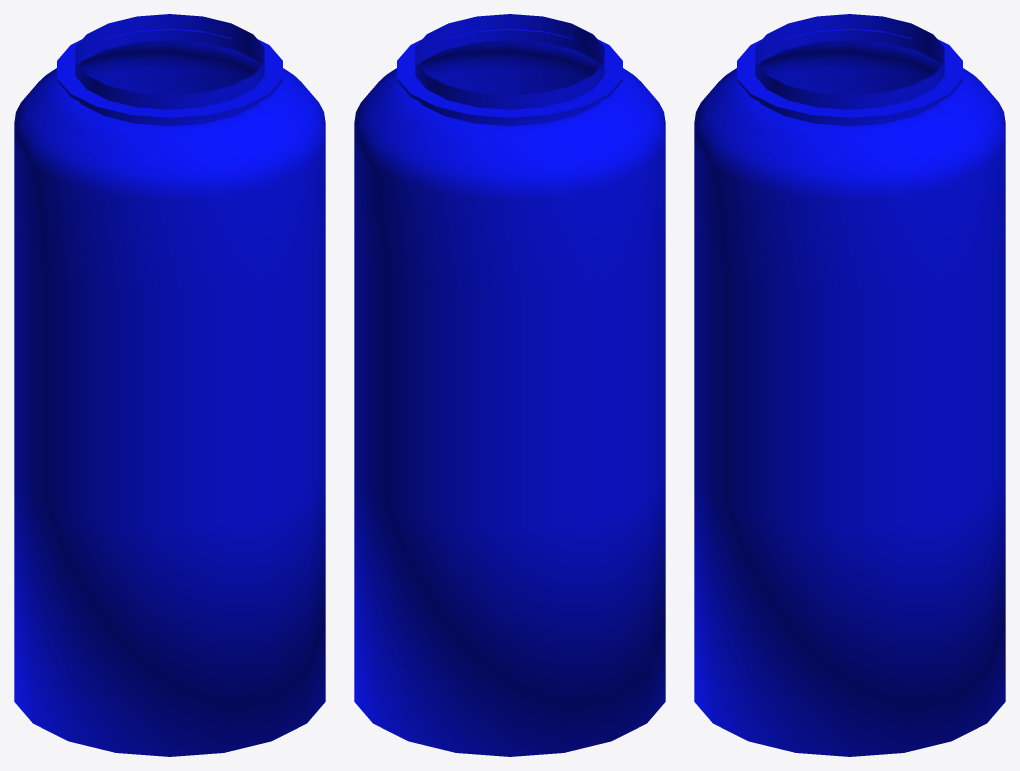
Rendered from pH Buffer Bottle Body.FBX.
3 renders of one model, left to right at view 1: azimuth 30°, elevation 25°; view 2: azimuth 150°, elevation 25°; view 3: azimuth 270°, elevation 25°, orthographic.
Visible parts, largest first — view 1: pH_10_Buffer_Bottle_Body; view 2: pH_10_Buffer_Bottle_Body; view 3: pH_10_Buffer_Bottle_Body.
Part boxes in pixels (<box>): pH_10_Buffer_Bottle_Body: <box>14,14,325,756</box>; pH_10_Buffer_Bottle_Body: <box>354,14,665,756</box>; pH_10_Buffer_Bottle_Body: <box>694,14,1005,756</box>.
Bounding box in the file's own units: 10 × 22.18 × 9.85.
